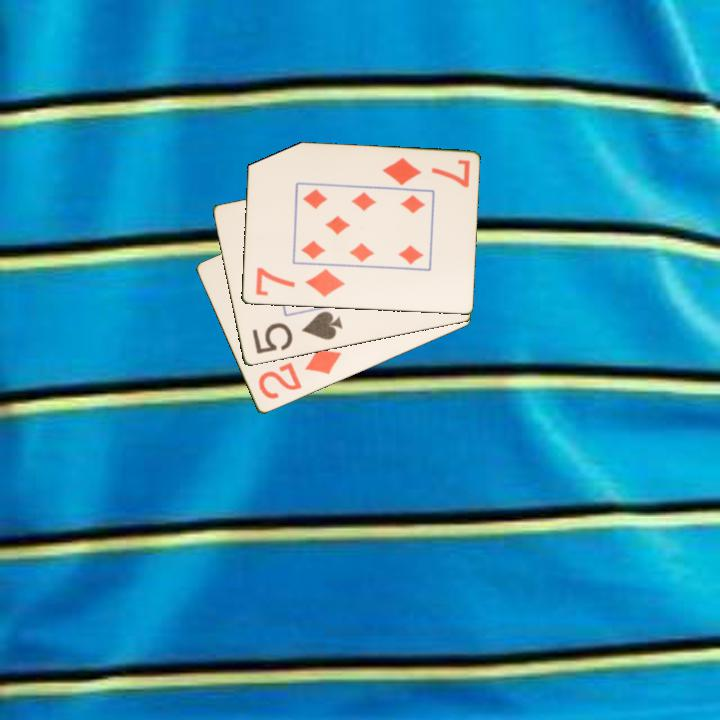2d: (255, 345, 344, 402)
5s: (248, 308, 345, 357)
7d: (378, 154, 473, 191), (252, 264, 347, 300)
